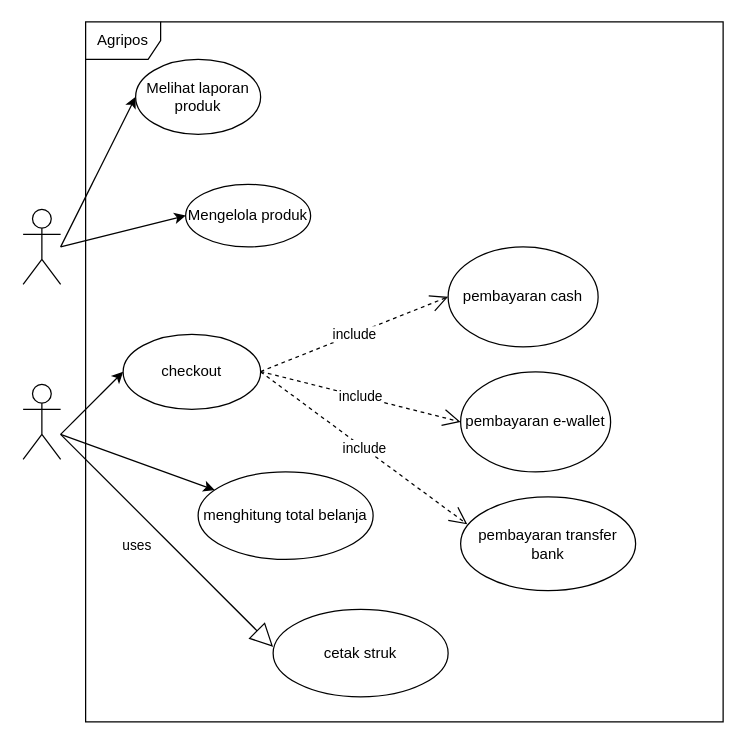
Some shapes in this 745 by 744 pixel diagram are drawn without their labels. Each missing label, with the centre of its shape:
"admin" goes at (41,246).
"kasir" goes at (41,421).
